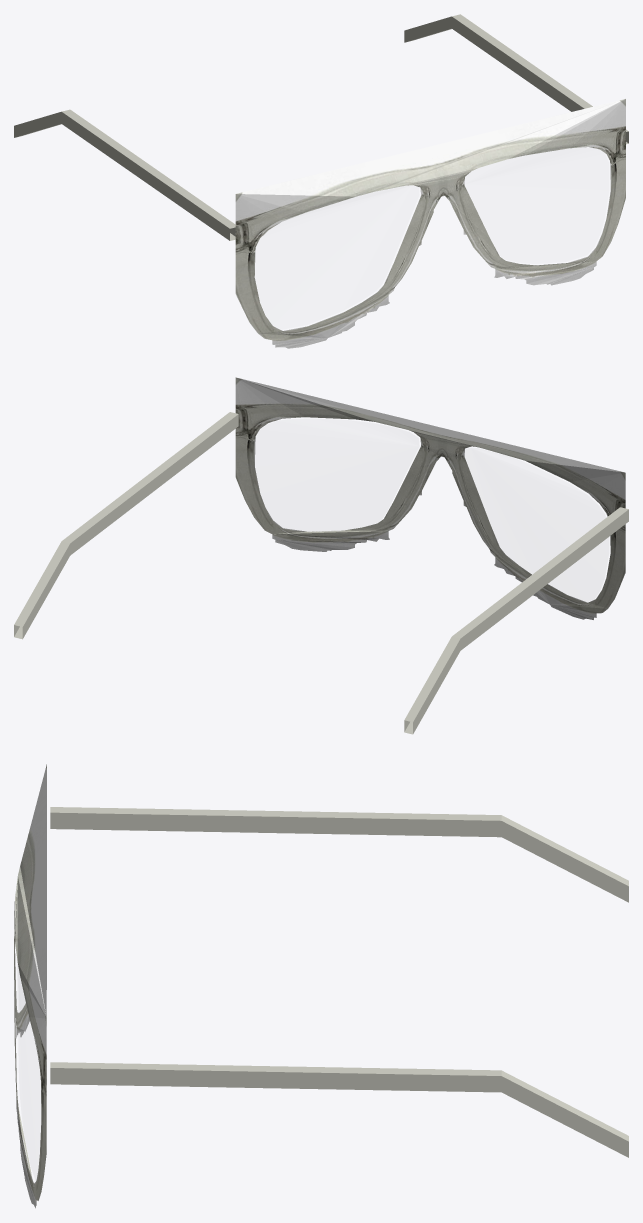
The model's file is gothamstyle-flex-77_crystal.glb.
The picture shows the model from 3 angles, top to bottom: view 1: azimuth 30°, elevation 25°; view 2: azimuth 150°, elevation 25°; view 3: azimuth 270°, elevation 25°; orthographic projection. The views are drawn at different scales.
Parts seen in each view (by area): view 1: frame_front, temple_viewer_left, temple_viewer_right; view 2: frame_front, temple_viewer_left, temple_viewer_right; view 3: temple_viewer_right, temple_viewer_left, frame_front.
Part boxes in pixels (bbox=[...]): frame_front: bbox=[235, 99, 625, 348]; temple_viewer_left: bbox=[14, 109, 235, 240]; temple_viewer_right: bbox=[404, 14, 628, 144]; frame_front: bbox=[235, 377, 625, 619]; temple_viewer_left: bbox=[404, 507, 628, 734]; temple_viewer_right: bbox=[14, 412, 238, 639]; temple_viewer_right: bbox=[50, 1062, 628, 1157]; temple_viewer_left: bbox=[50, 807, 628, 902]; frame_front: bbox=[14, 764, 46, 1208].
Bounding box in the file's own units: 0.1366 × 0.0533 × 0.136.
3 materials, 2 textured.
